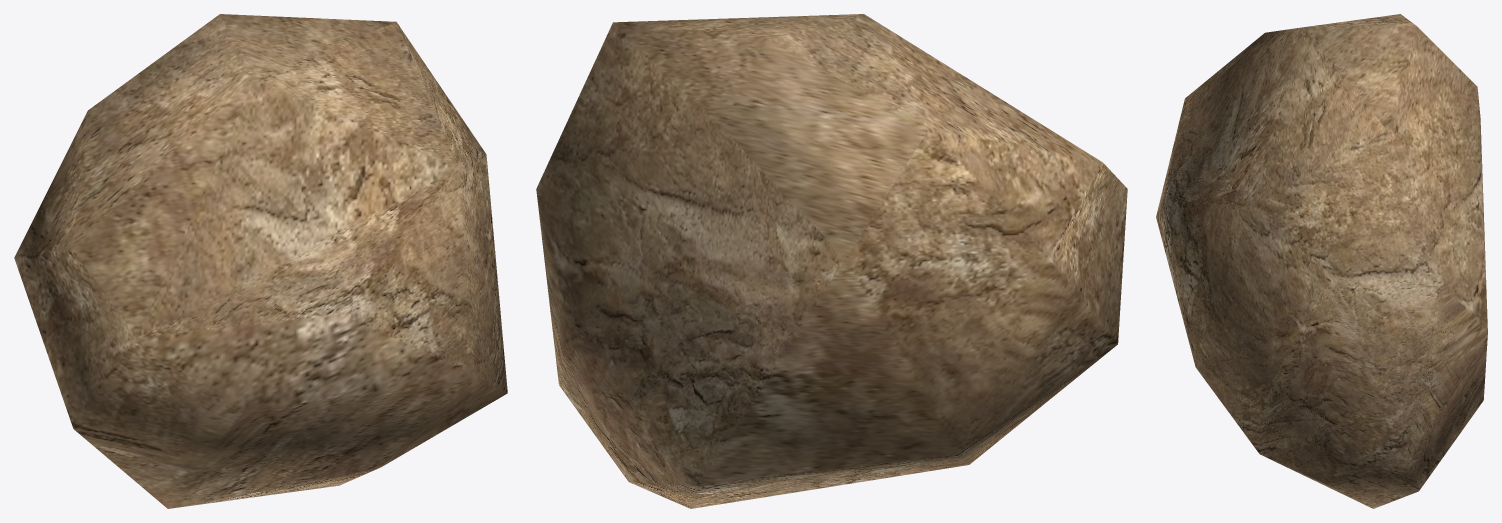
The model's file is rock.glb.
3 views of the same model, side by side, from view 1: azimuth 30°, elevation 25°; view 2: azimuth 150°, elevation 25°; view 3: azimuth 270°, elevation 25° (orthographic). The views are drawn at different scales.
Parts seen in each view (by area): view 1: Icosphere; view 2: Icosphere; view 3: Icosphere.
Boxes of the visible parts, x1,y1,x2,y2 form: Icosphere: (14, 14, 507, 508); Icosphere: (536, 14, 1127, 508); Icosphere: (1156, 14, 1487, 508).
Size of the model in its own units: 1.43 by 1.42 by 0.9704.
1 material, 1 textured.
